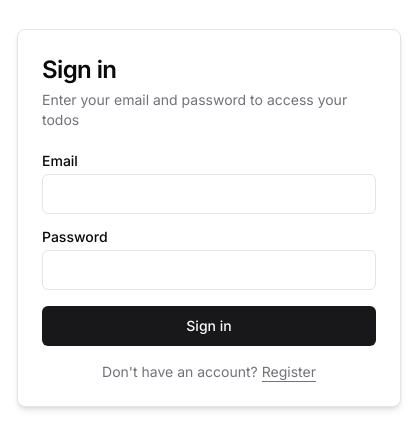
LoginPage › shows validation error when password is empty
Type "a@b.com" into the field labelled "Email".
click(209, 194); type("a@b.com")  # box [42,174,376,214]
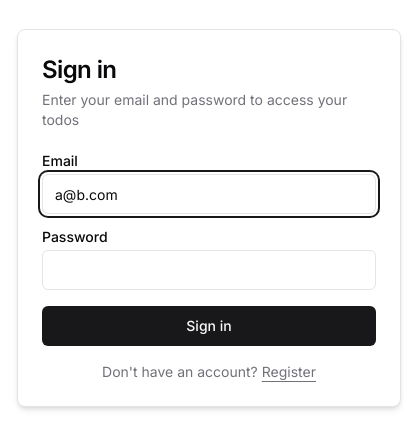
Click the button "Sign in".
click(209, 326)  # box [42,306,376,346]
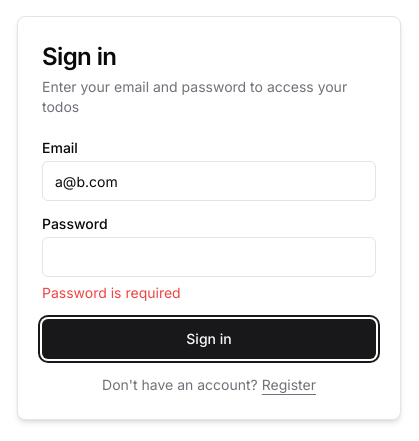
Now the text "Password is required" is shown, box [42,284,181,301]
